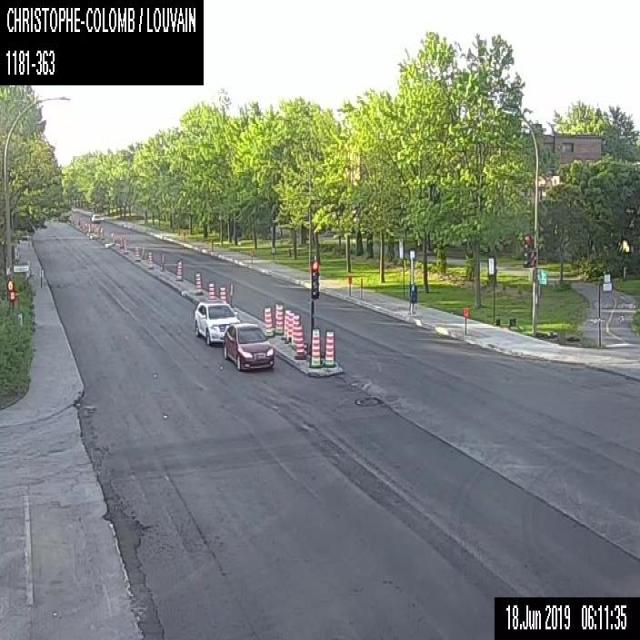construction: (324, 328, 334, 365), (310, 328, 320, 365), (294, 324, 304, 358), (264, 306, 274, 337), (291, 314, 300, 348), (274, 300, 282, 334), (283, 308, 291, 342), (287, 311, 294, 345), (462, 305, 468, 334), (194, 270, 201, 294), (175, 259, 182, 280), (208, 281, 215, 300), (218, 286, 226, 301), (347, 275, 352, 295), (148, 250, 152, 268), (118, 235, 123, 248), (135, 244, 139, 260), (123, 240, 128, 252), (250, 246, 253, 264)
vehicle: (223, 322, 274, 369), (192, 300, 240, 344), (90, 213, 101, 222)
